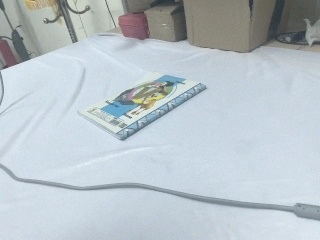book: (75, 69, 209, 142)
box: (183, 1, 286, 54), (144, 1, 187, 43)
